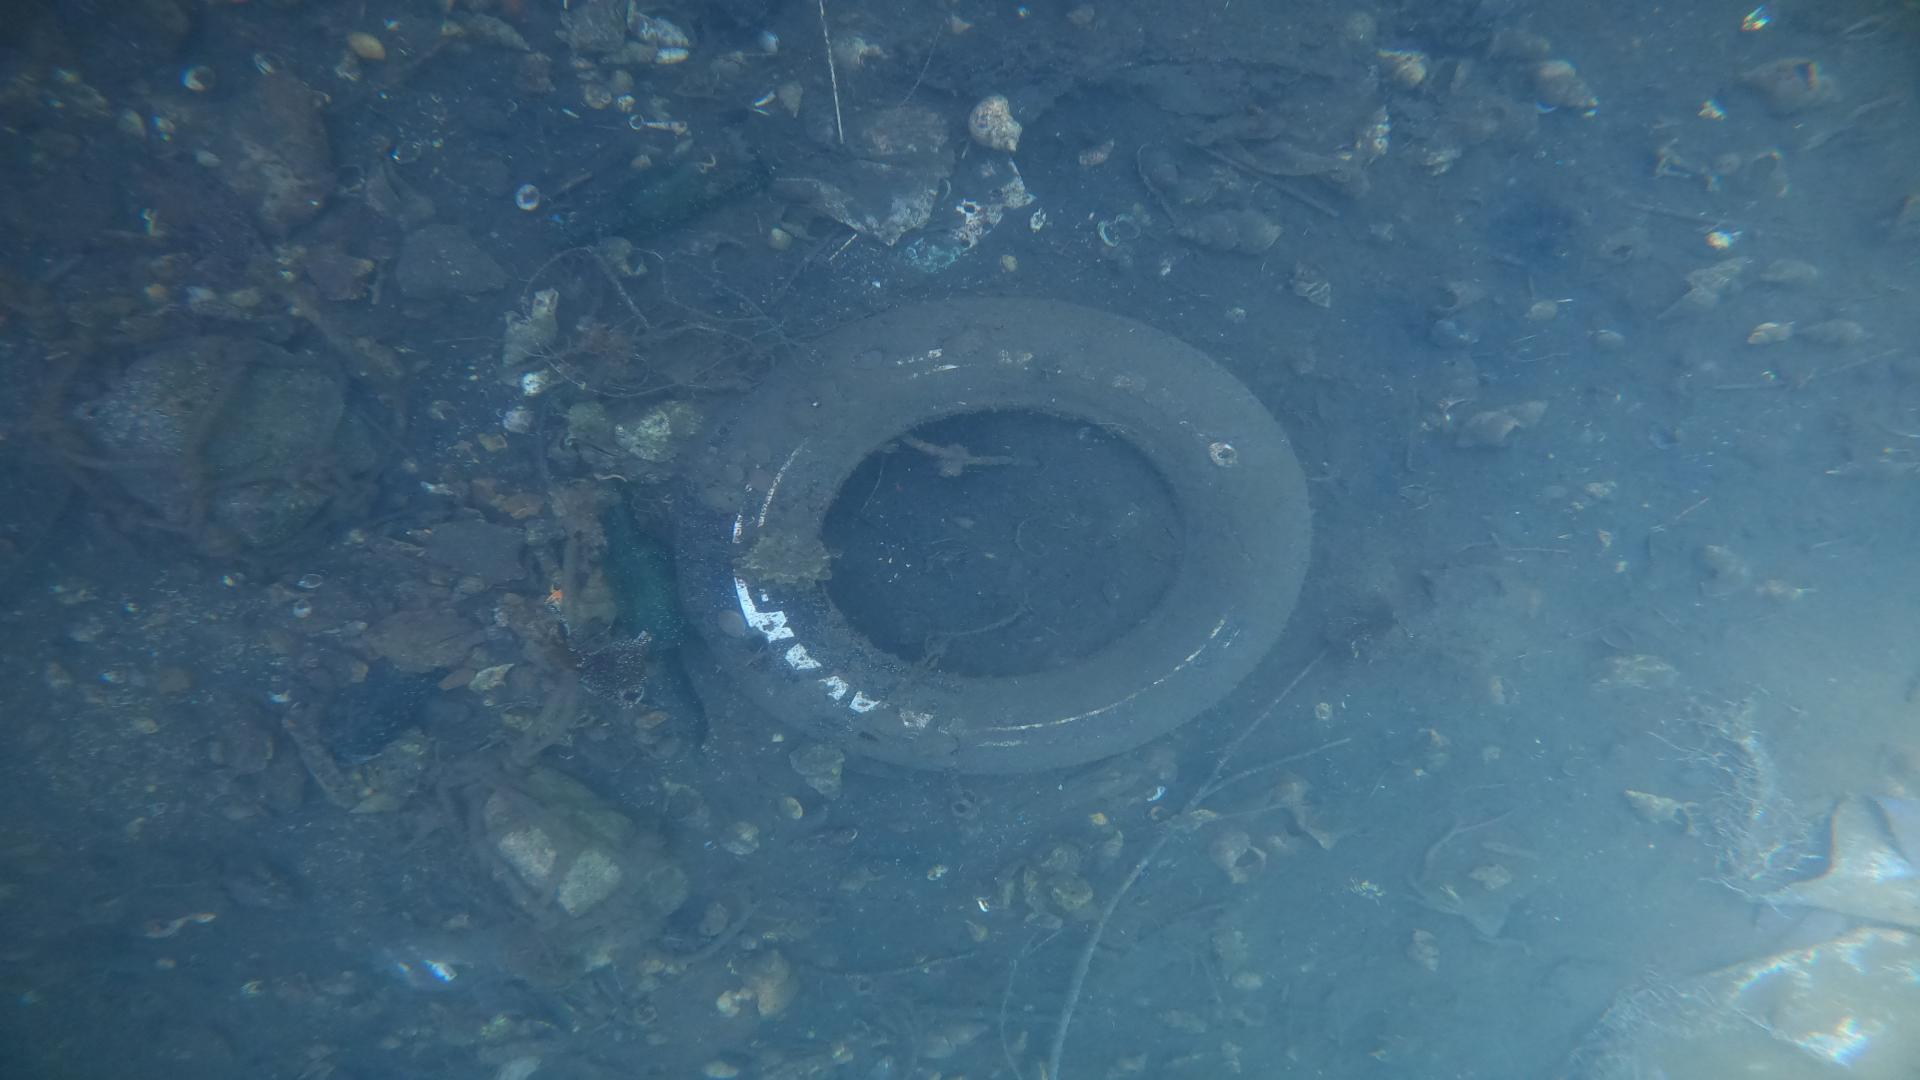tire: (665, 287, 1319, 785)
